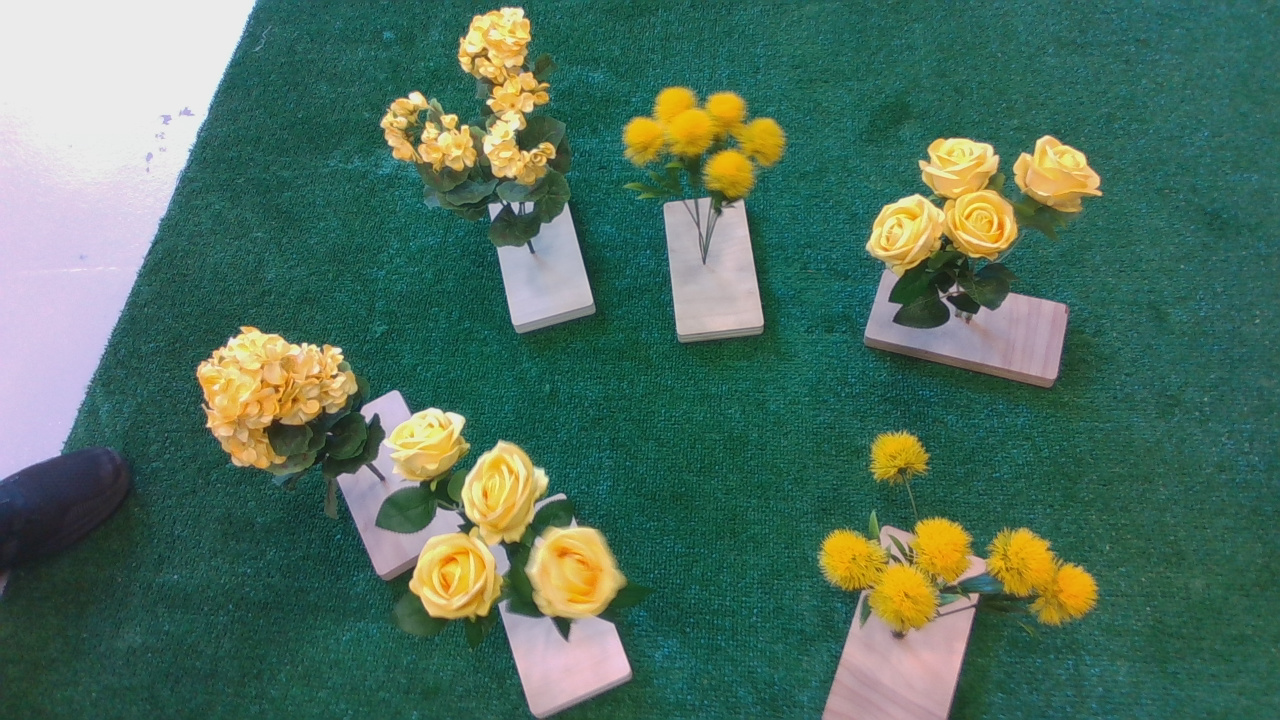dandelion: (822, 430, 1124, 637), (627, 88, 798, 227)
geranium: (382, 10, 594, 263), (197, 319, 387, 488)
rose: (397, 412, 668, 635), (856, 136, 1116, 305)
